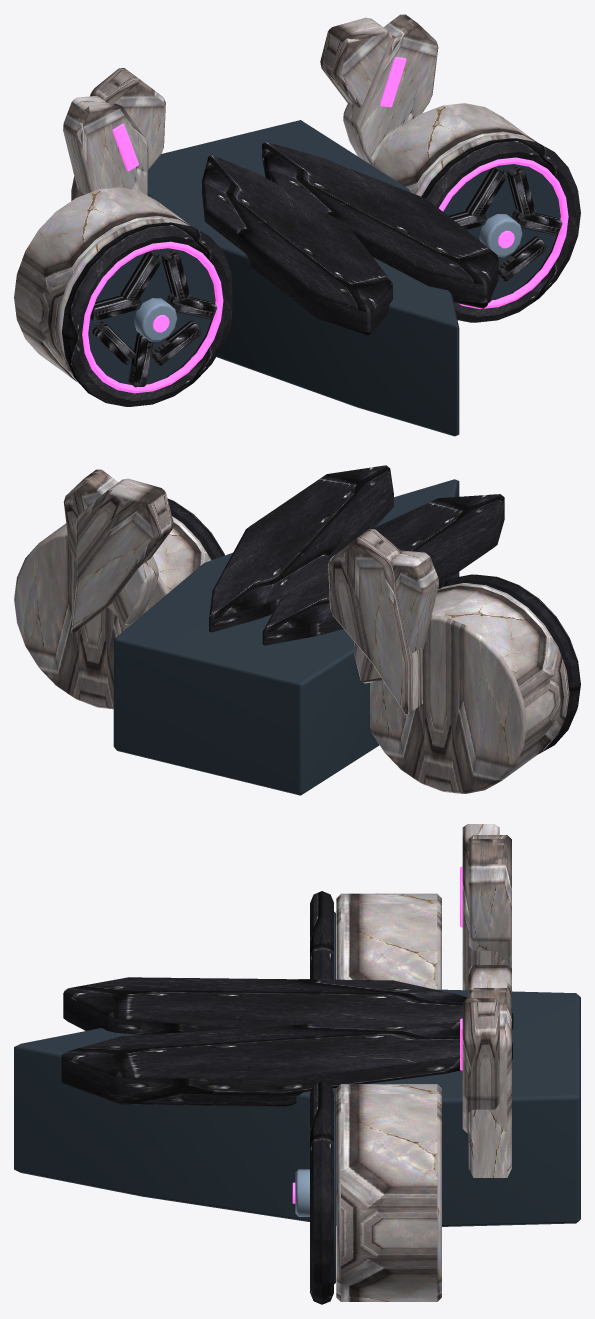
The model's file is flyer.glb.
The picture shows the model from 3 angles, top to bottom: view 1: azimuth 30°, elevation 25°; view 2: azimuth 150°, elevation 25°; view 3: azimuth 270°, elevation 25°; orthographic projection. The views are drawn at different scales.
Parts seen in each view (by area): view 1: Split arrow nose, Pointed interceptor chassis, Swept dorsal vane, Turbine impeller blade, Turbine running light, Turbine hub, Fin light strip; view 2: Swept dorsal vane, Pointed interceptor chassis, Split arrow nose; view 3: Pointed interceptor chassis, Split arrow nose, Swept dorsal vane, Turbine hub.
Boxes of the visible parts, left/top/right/bottom form: Split arrow nose: left=62, top=138, right=580, bottom=406; Pointed interceptor chassis: left=88, top=120, right=560, bottom=436; Swept dorsal vane: left=14, top=14, right=536, bottom=383; Turbine impeller blade: left=90, top=165, right=562, bottom=387; Turbine running light: left=82, top=157, right=568, bottom=393; Turbine hub: left=134, top=214, right=522, bottom=341; Fin light strip: left=112, top=57, right=406, bottom=171; Swept dorsal vane: left=14, top=469, right=569, bottom=793; Pointed interceptor chassis: left=113, top=479, right=459, bottom=795; Split arrow nose: left=168, top=465, right=580, bottom=753; Pointed interceptor chassis: left=14, top=911, right=580, bottom=1284; Split arrow nose: left=61, top=891, right=513, bottom=1304; Swept dorsal vane: left=336, top=824, right=511, bottom=1301; Turbine hub: left=295, top=979, right=309, bottom=1216.
Size of the model in its own units: 1.47 by 0.7152 by 1.23.
7 materials, 3 textured.
